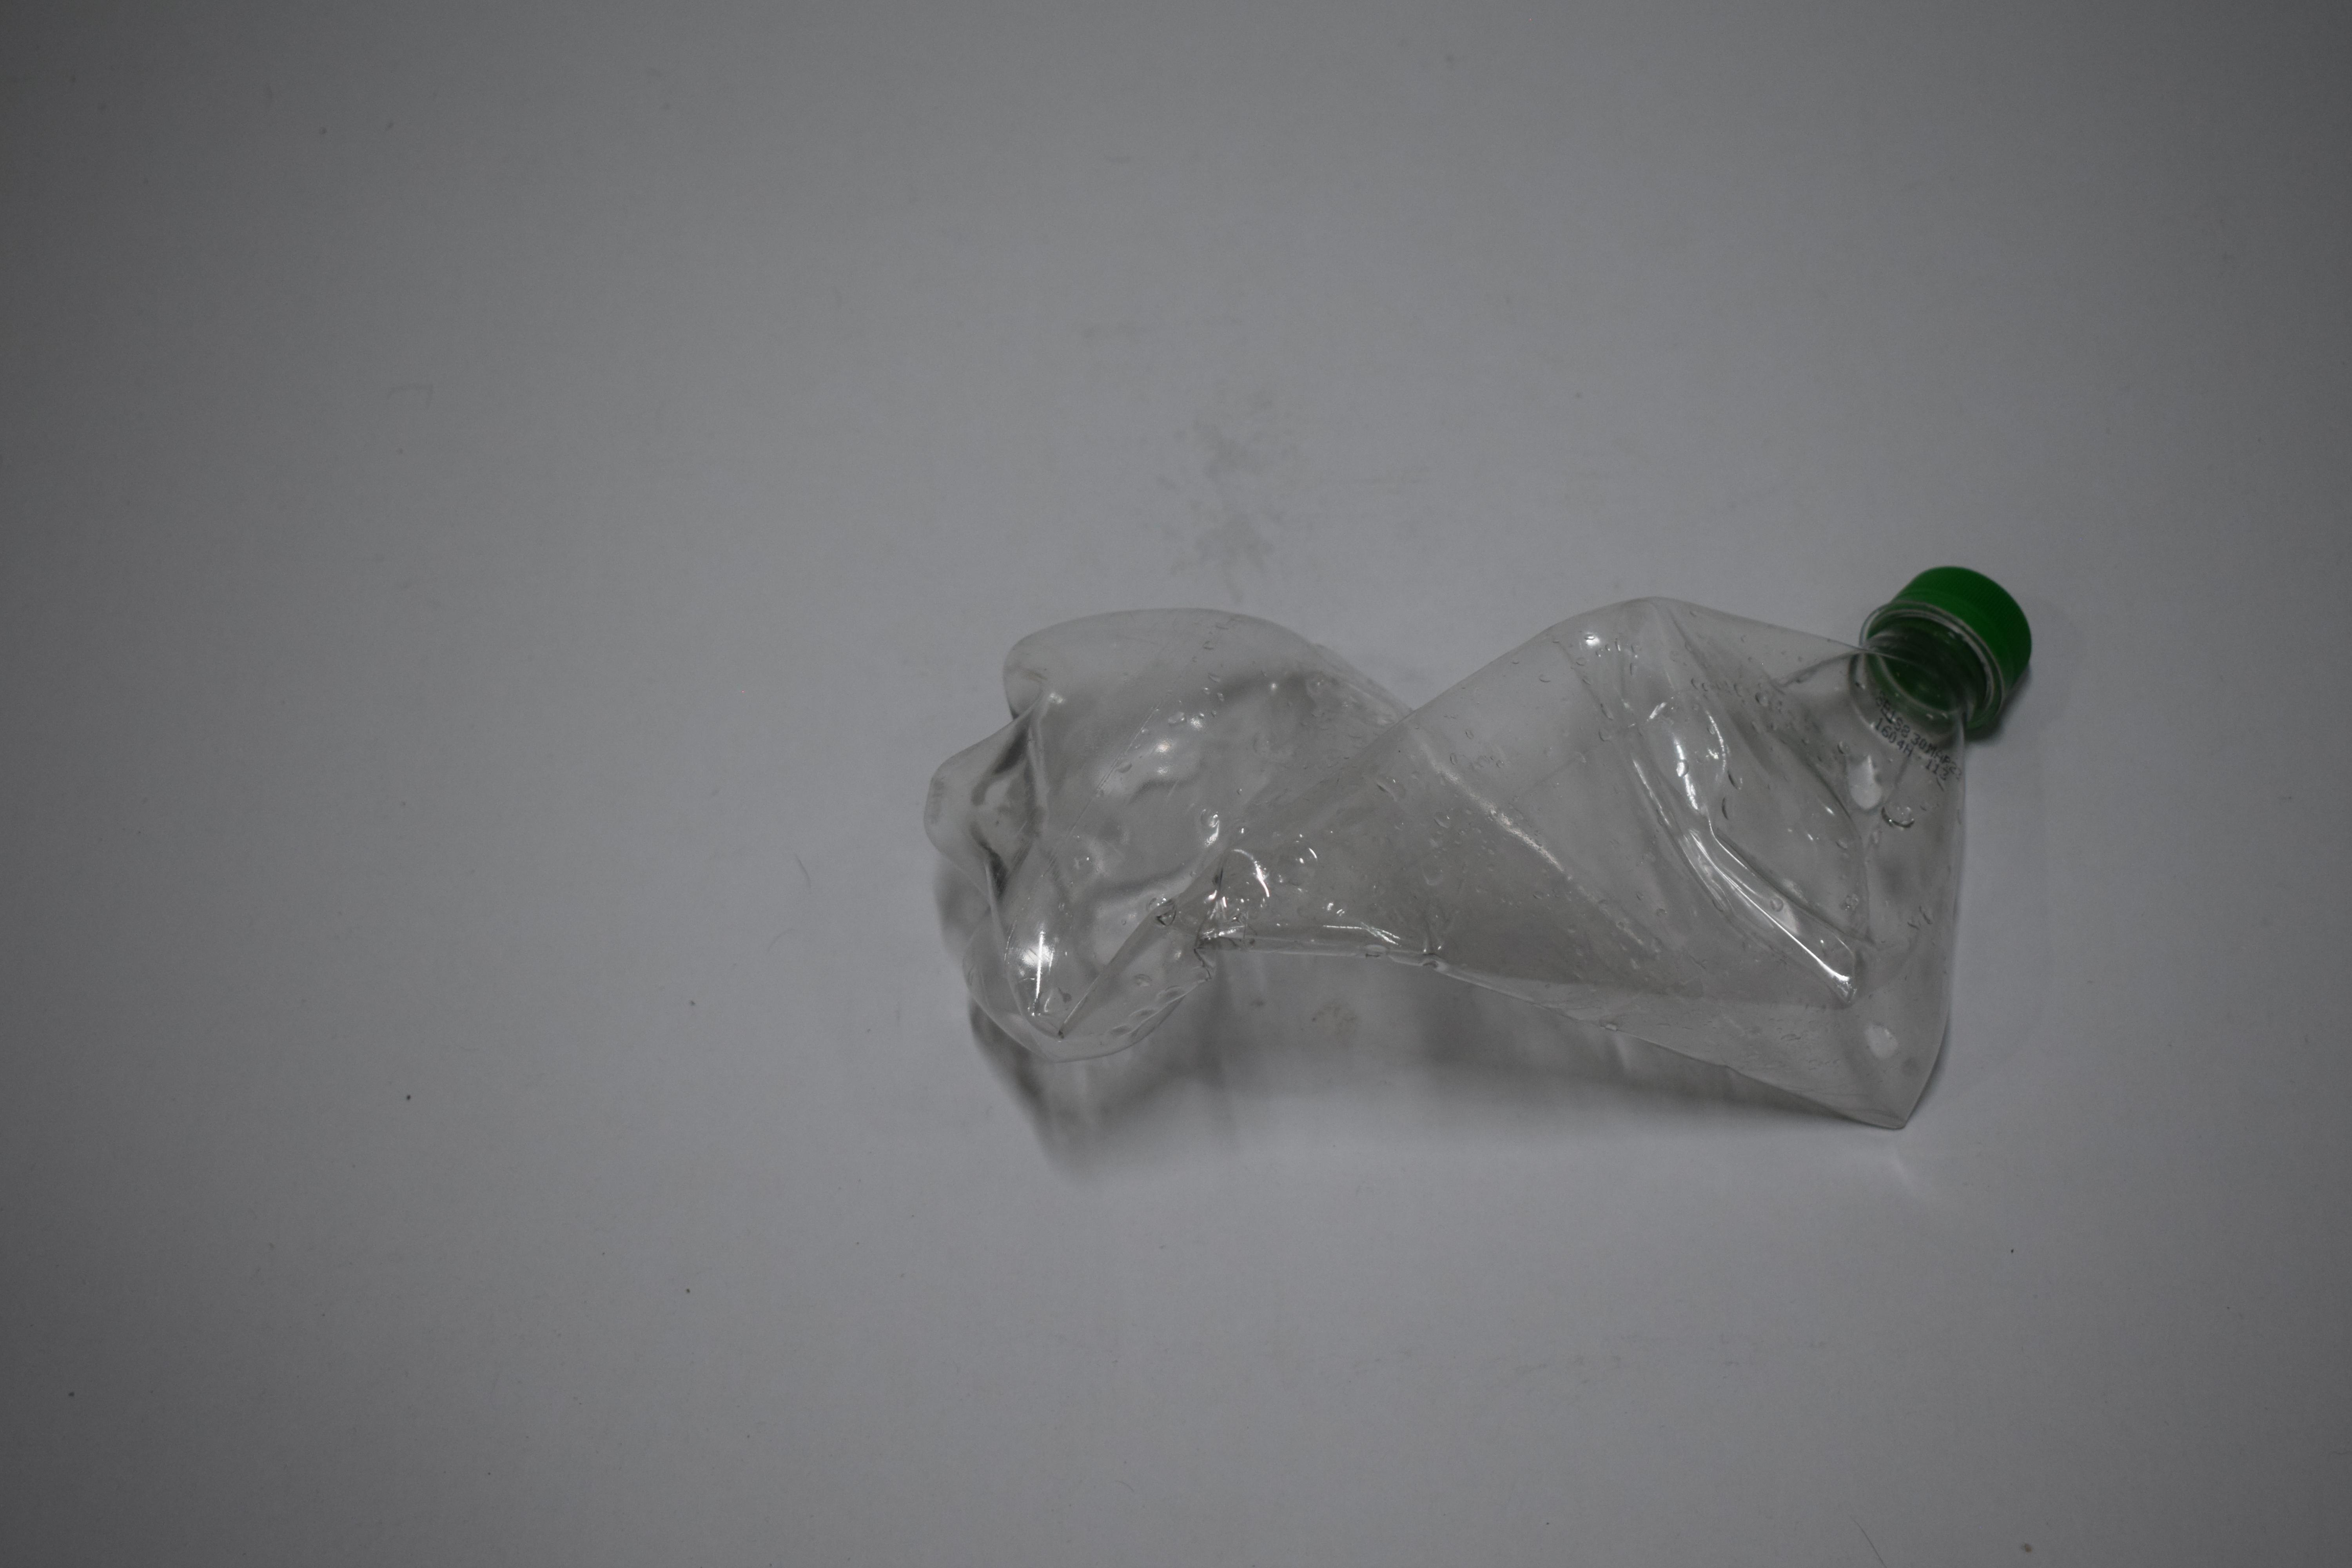bottle: (921, 0, 2042, 361)
